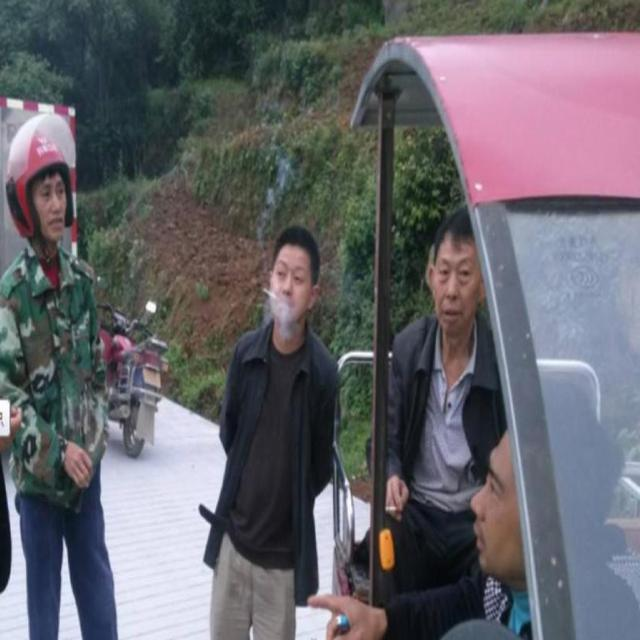smoking: (378, 208, 472, 528), (261, 224, 324, 350)
